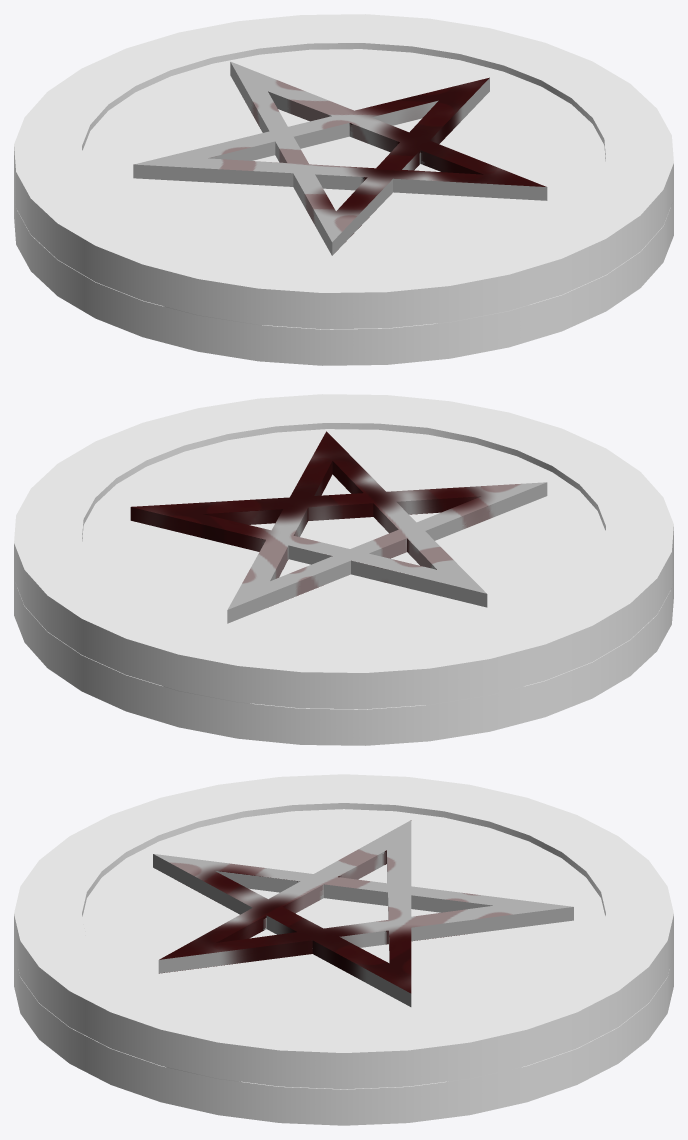
File: 31284_autosave.glb
3 renders of one model, top to bottom at view 1: azimuth 30°, elevation 25°; view 2: azimuth 150°, elevation 25°; view 3: azimuth 270°, elevation 25°, orthographic.
Visible parts, largest first — view 1: Cilindro; view 2: Cilindro; view 3: Cilindro.
Part boxes in pixels (left/top/right/bottom): Cilindro: left=14, top=14, right=673, bottom=365; Cilindro: left=14, top=394, right=673, bottom=745; Cilindro: left=14, top=774, right=673, bottom=1125.
Size of the model in its own units: 1.45 by 0.2118 by 1.45.
Materials: 3 (1 with a texture image).
